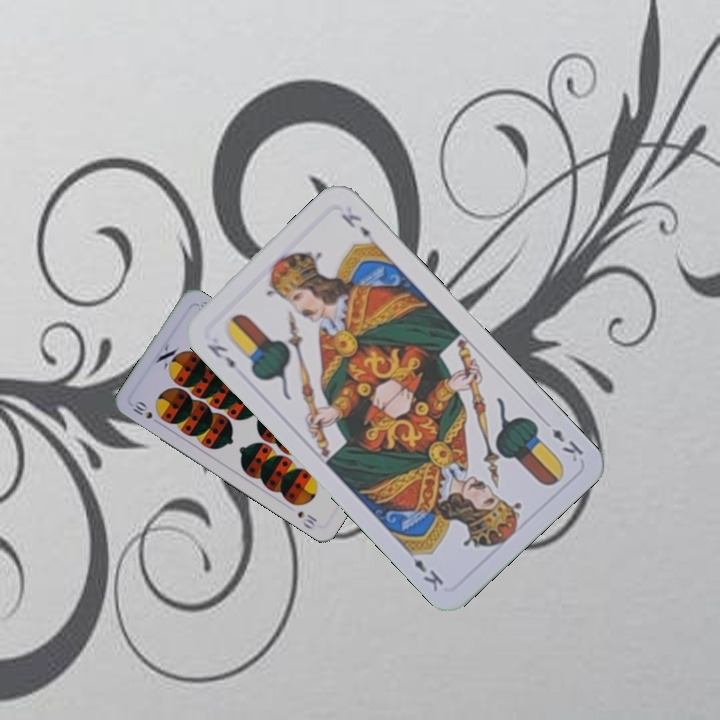EK: (547, 424, 586, 465), (203, 339, 239, 372)
S10: (127, 397, 155, 422)
